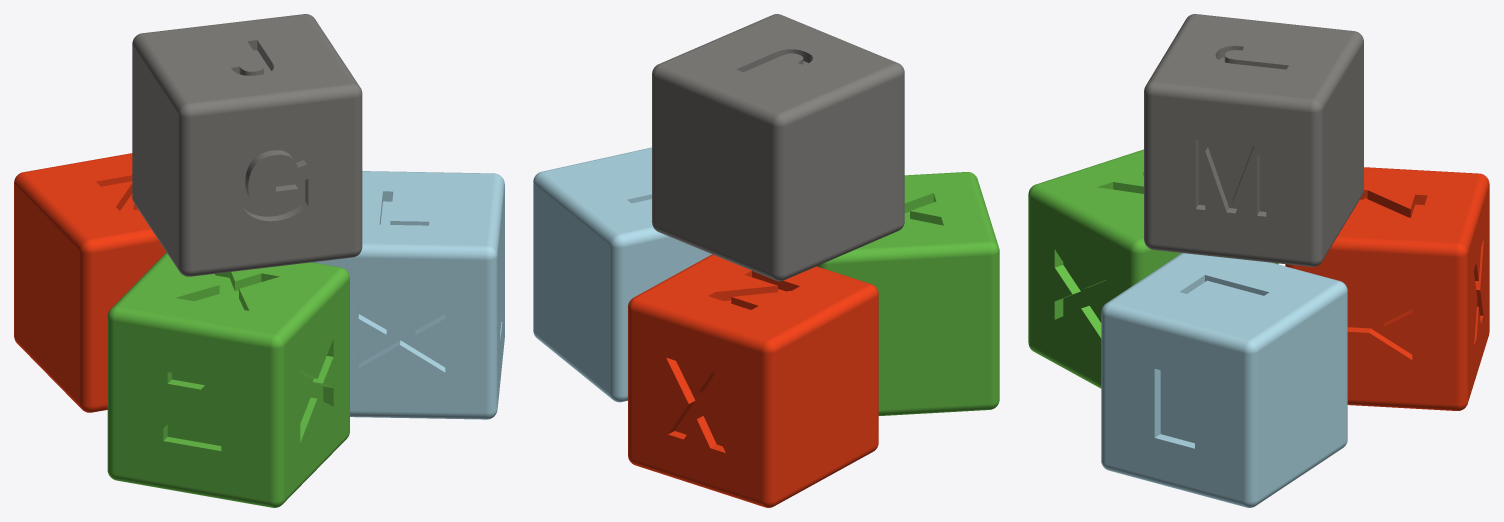
The model's file is uploads_files_3185563_toycubes (1).fbx.
3 views of the same model, side by side, from view 1: azimuth 30°, elevation 25°; view 2: azimuth 150°, elevation 25°; view 3: azimuth 270°, elevation 25° (orthographic). The views are drawn at different scales.
Parts seen in each view (by area): view 1: childcare; view 2: childcare; view 3: childcare.
Boxes of the visible parts, x1=… form: childcare: x1=14, y1=14, x2=504, y2=507; childcare: x1=533, y1=14, x2=999, y2=507; childcare: x1=1028, y1=14, x2=1489, y2=507.
Size of the model in its own units: 12.74 by 12.06 by 9.66.
